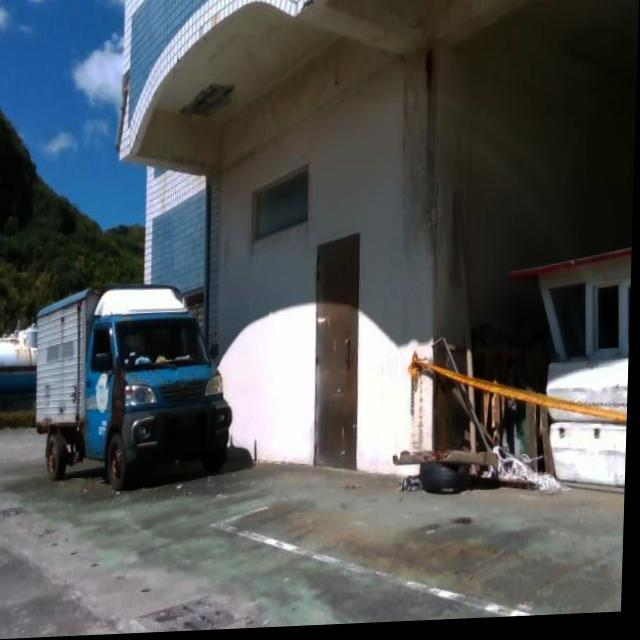pollute: (385, 246, 634, 503)
